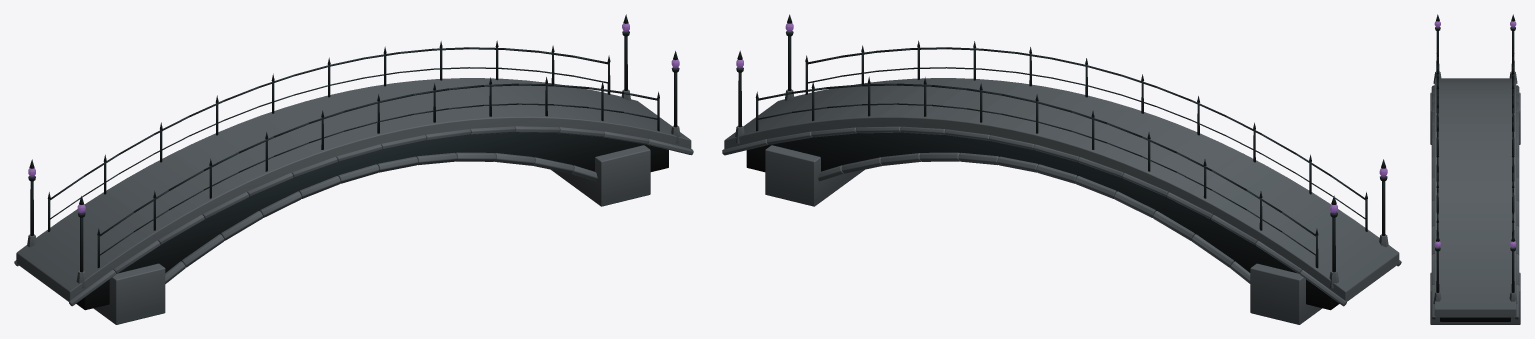
File: dusk_bridge.glb
3 views of the same model, side by side, from view 1: azimuth 30°, elevation 25°; view 2: azimuth 150°, elevation 25°; view 3: azimuth 270°, elevation 25° (orthographic). The views are drawn at different scales.
Visible parts, largest first — view 1: dusk_bridge; view 2: dusk_bridge; view 3: dusk_bridge.
Boxes of the visible parts, x1=… form: dusk_bridge: x1=14, y1=14, x2=693, y2=324; dusk_bridge: x1=722, y1=14, x2=1401, y2=324; dusk_bridge: x1=1430, y1=14, x2=1520, y2=324.
Size of the model in its own units: 20.05 by 5.02 by 3.3.
2 materials, 2 textured.
